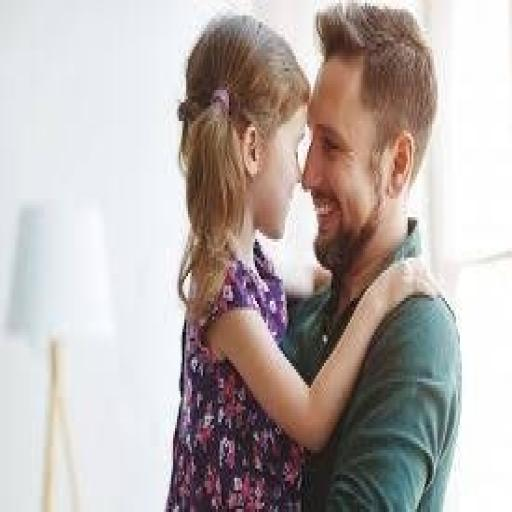hugging: (162, 3, 464, 509)
